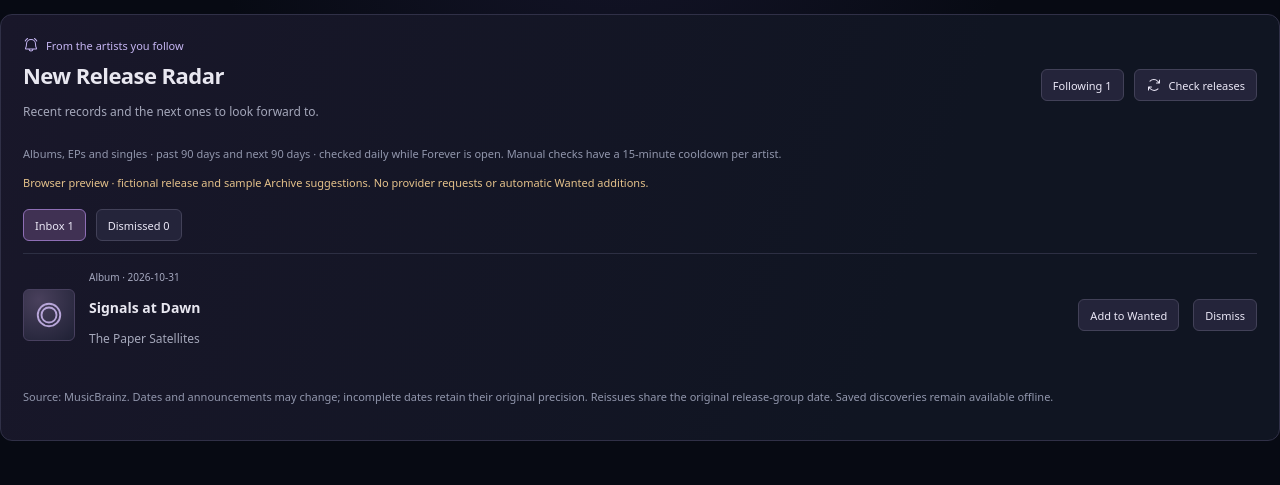
Scenario: new release radar › adds to Wanted once and retains a visible failure for retry
This screenshot has width=1280, height=485.
Click the button "Add to Wanted" at (1129, 315), box [1078,299,1179,331]
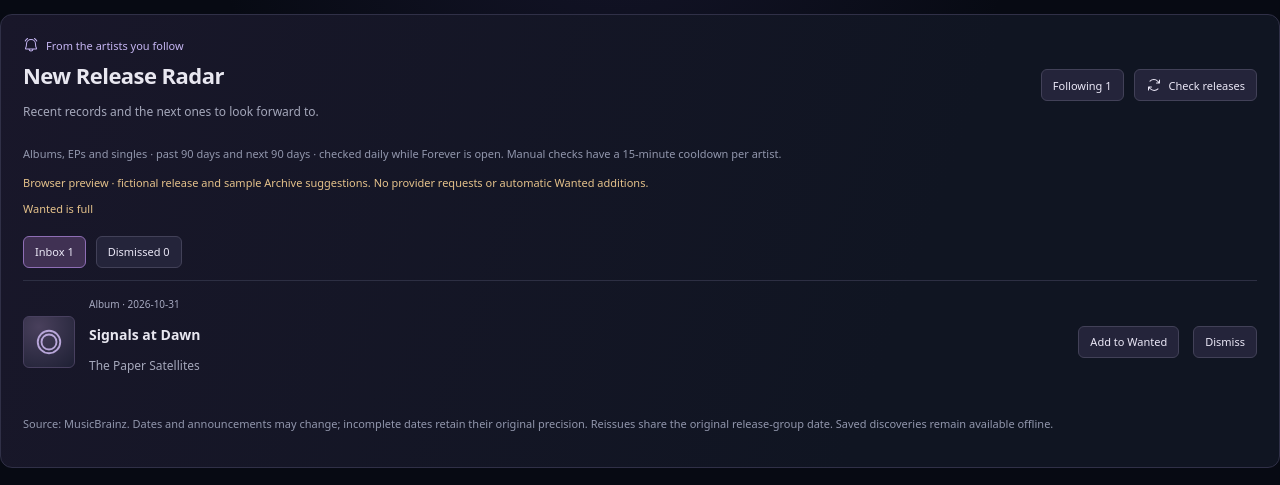
Check: the message reads "Wanted is full", box [23,201,93,216]
Click the button "Add to Wanted" at (1129, 342), box [1078,326,1179,358]
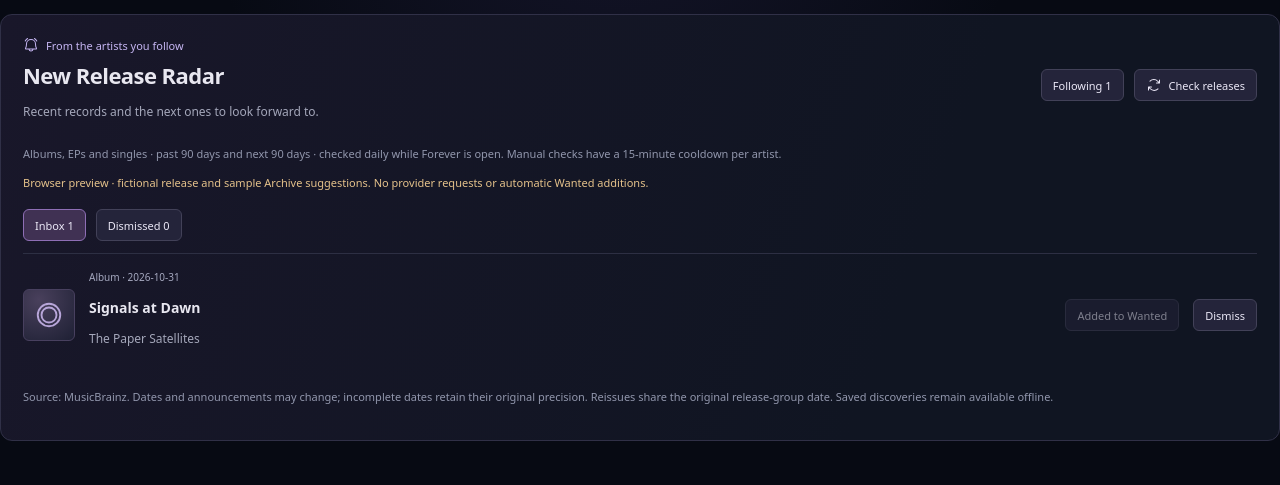
Check: the button "Added to Wanted" is disabled, box [1065,299,1179,331]
